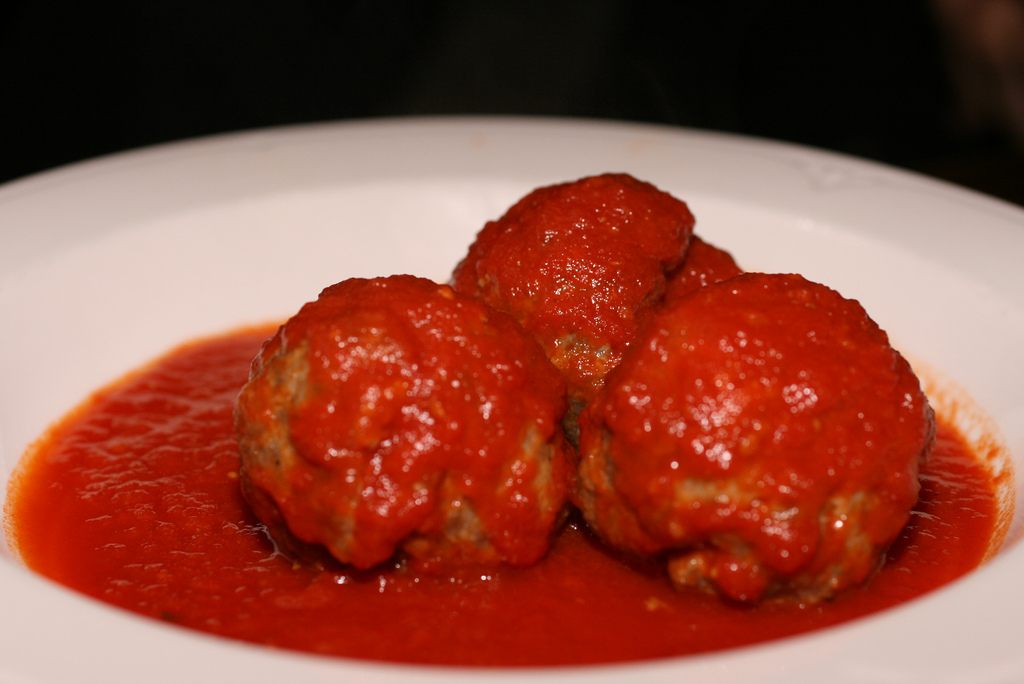meatballs: (506, 226, 863, 565), (288, 280, 565, 555)
